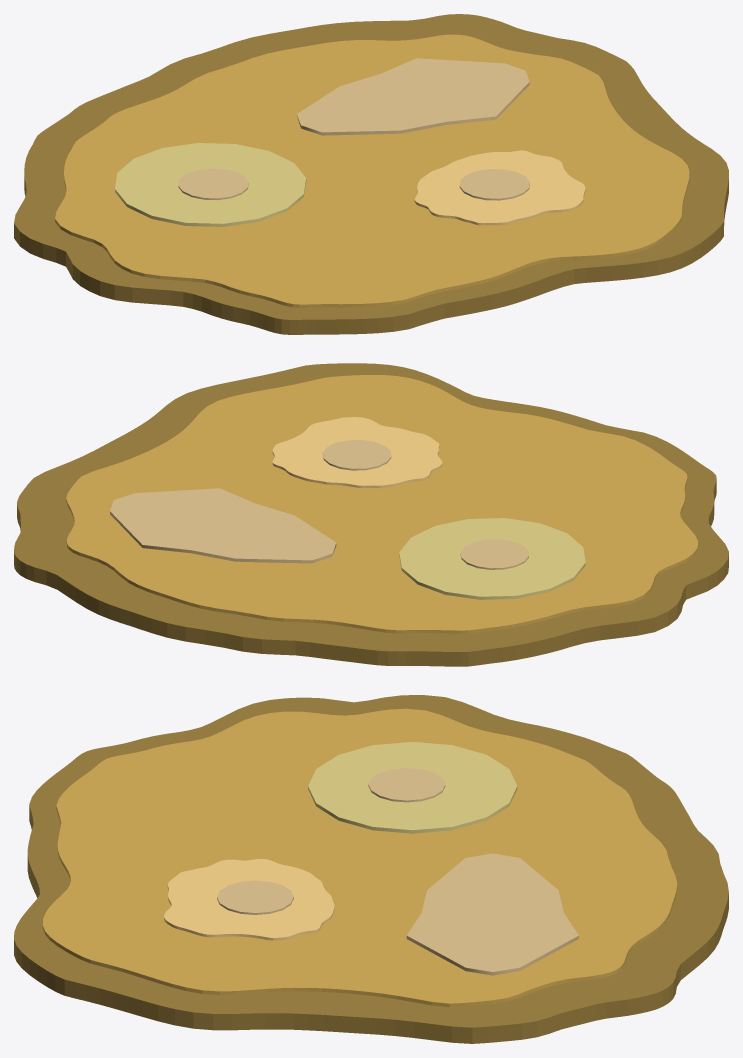
The model's file is haidao.fbx.
The picture shows the model from 3 angles, top to bottom: view 1: azimuth 30°, elevation 25°; view 2: azimuth 150°, elevation 25°; view 3: azimuth 270°, elevation 25°; orthographic projection. The views are drawn at different scales.
Visible parts, largest first — view 1: pCylinder5; view 2: pCylinder5; view 3: pCylinder5.
Boxes of the visible parts, left/top/right/bottom form: pCylinder5: left=14, top=14, right=728, bottom=334; pCylinder5: left=14, top=363, right=728, bottom=666; pCylinder5: left=14, top=695, right=728, bottom=1043.
Size of the model in its own units: 11427 by 405 by 10378.
